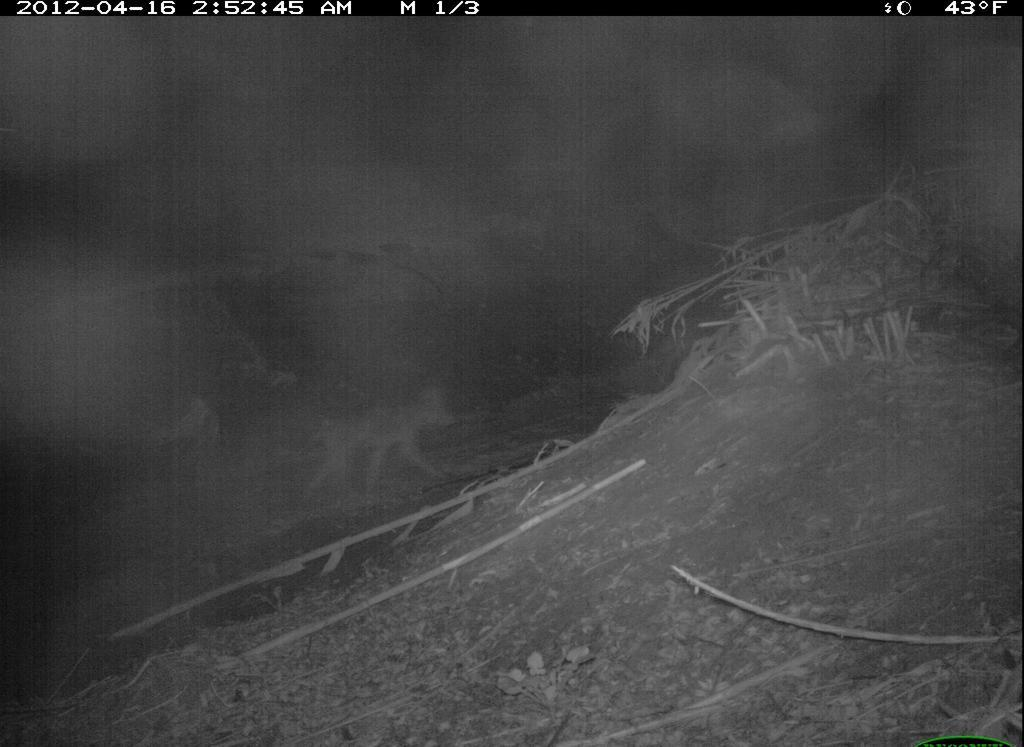coyote: (294, 385, 465, 507)
